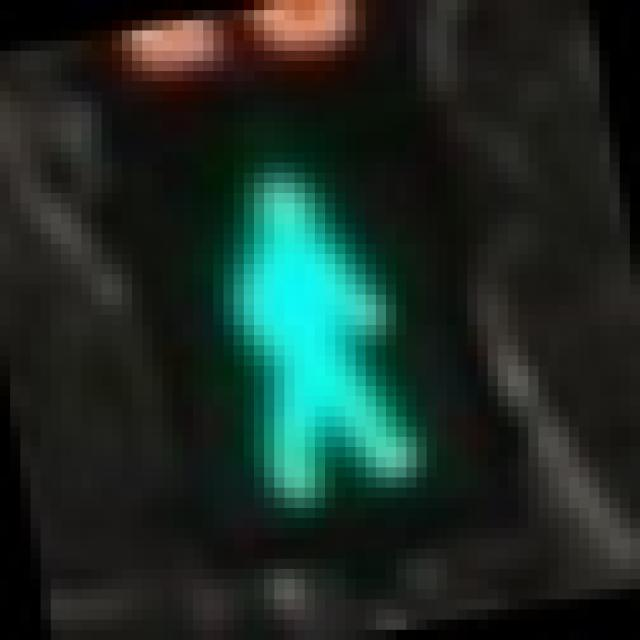geen-crossing: (122, 71, 477, 549)
